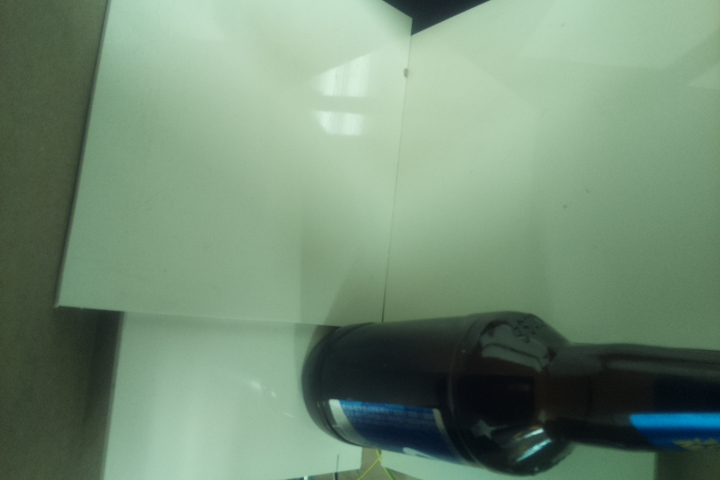makju: (301, 309, 720, 476)
